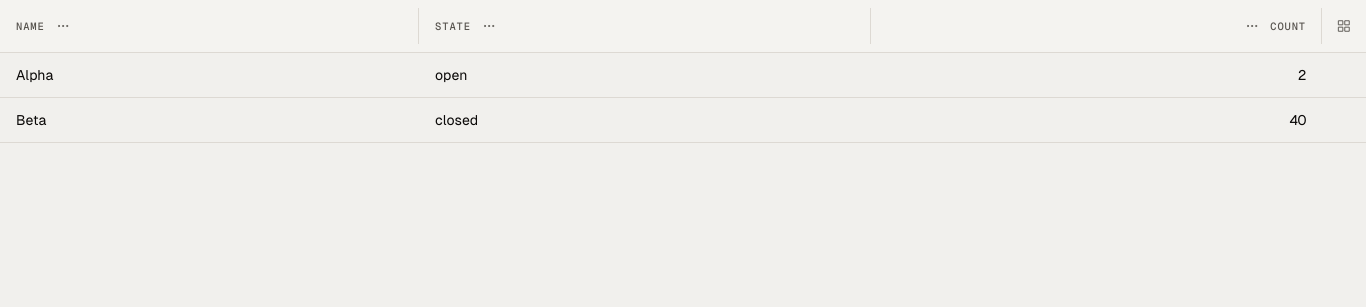
Test: the column picker › cannot hide a column that may not be hidden
Click the button named "Columns".
click(1344, 26)  # box x1=1330 y1=12 x2=1358 y2=40
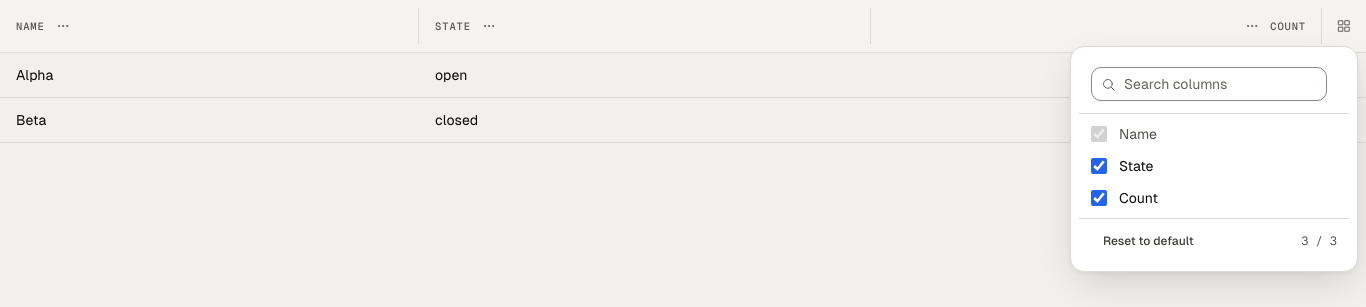
Now the checkbox with test id "t-columns-toggle-name" is disabled, box x1=1091 y1=126 x2=1107 y2=142
